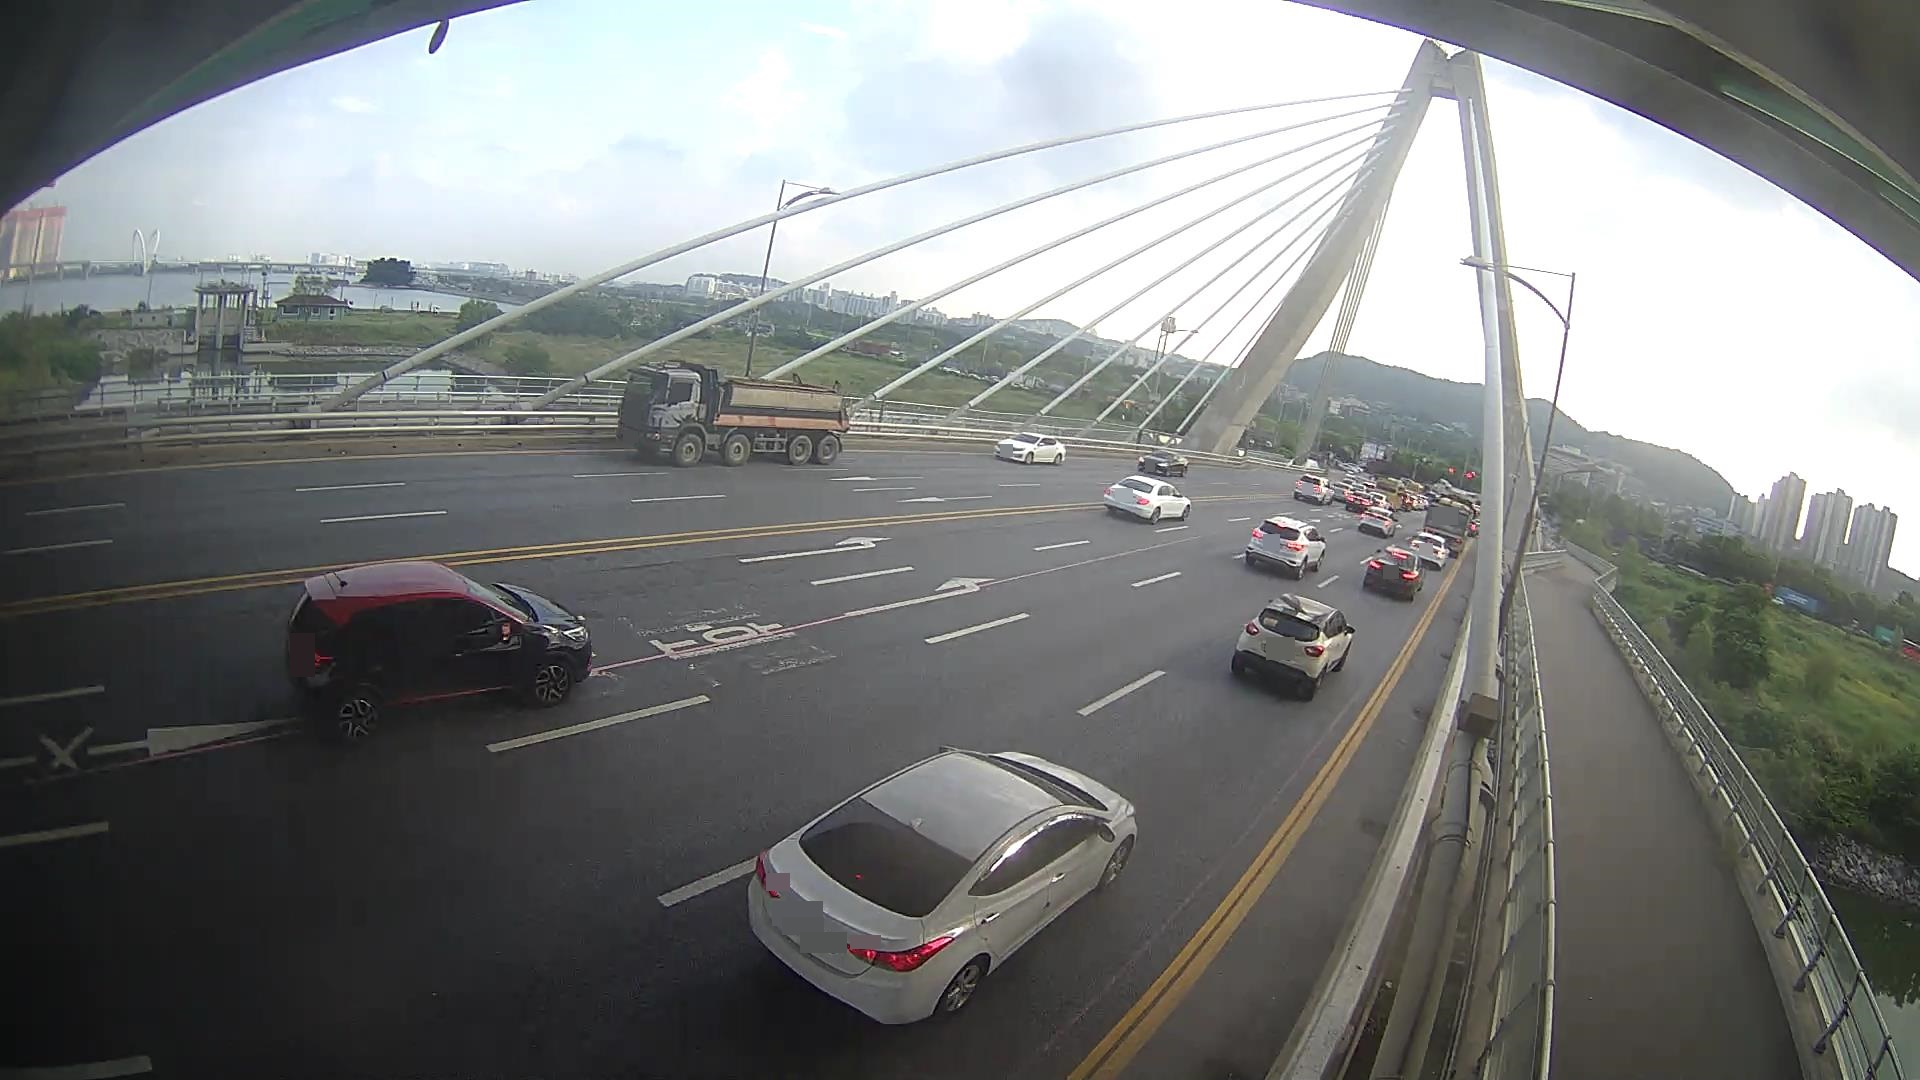정상차량: (615, 357, 852, 468)
